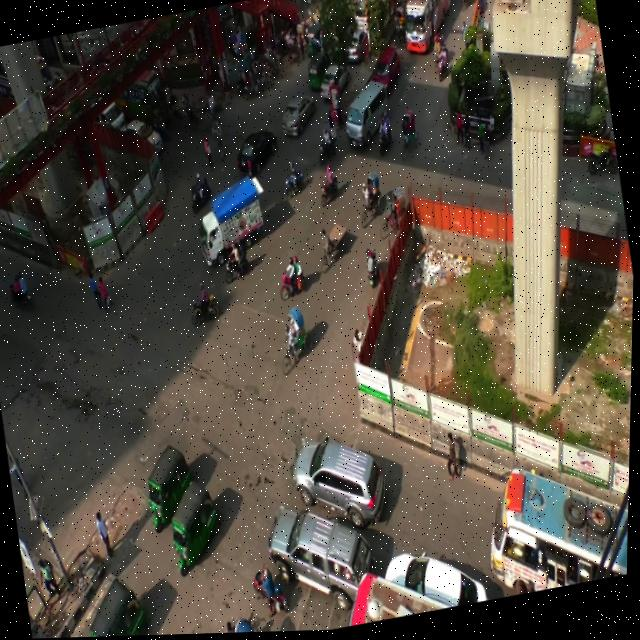cng: (165, 478, 229, 577), (139, 442, 201, 539), (81, 566, 159, 638), (303, 54, 333, 101)
rikshaw: (272, 301, 320, 383), (374, 187, 415, 246), (355, 169, 389, 231), (395, 110, 423, 166), (238, 65, 268, 104), (250, 56, 280, 92), (265, 47, 289, 80), (430, 34, 449, 73), (283, 31, 303, 67), (456, 0, 478, 11)
